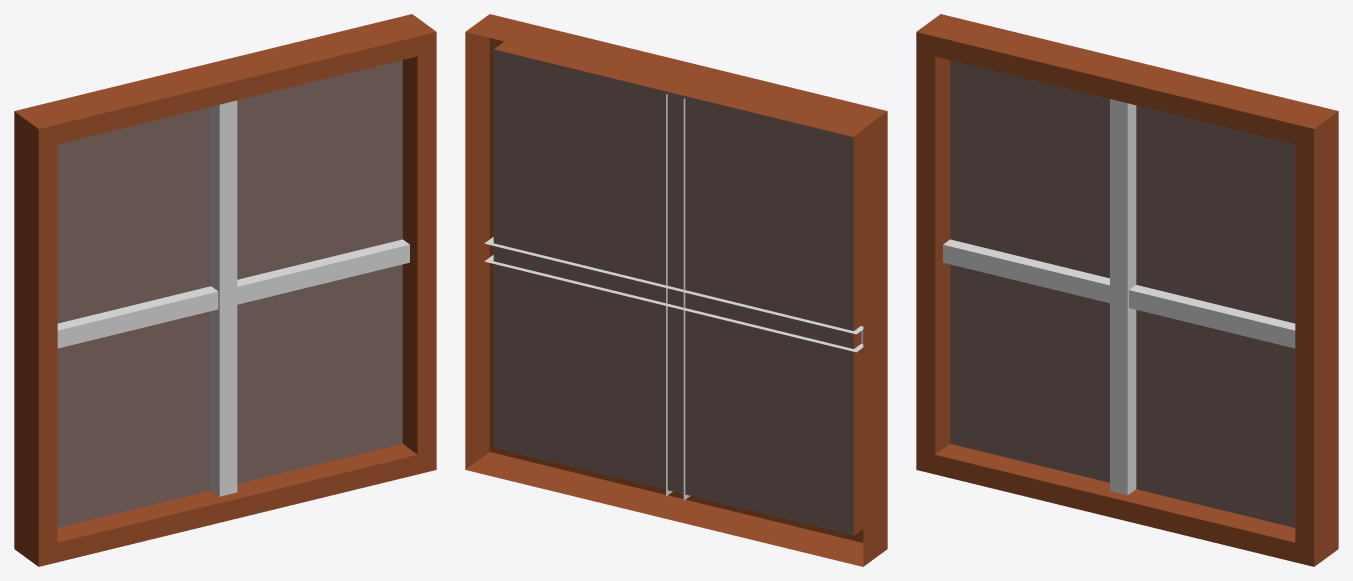
Rendered from WINDOWS2.fbx.
3 views of the same model, side by side, from view 1: azimuth 30°, elevation 25°; view 2: azimuth 150°, elevation 25°; view 3: azimuth 330°, elevation 25° (orthographic).
Visible parts, largest first — view 1: Plane:005.002; view 2: Plane:005.002; view 3: Plane:005.002.
Part boxes in pixels (<box>): Plane:005.002: <box>14,14,436,566</box>; Plane:005.002: <box>465,14,887,566</box>; Plane:005.002: <box>916,14,1338,566</box>.
Size of the model in its own units: 60.5 by 63.61 by 6.46.
